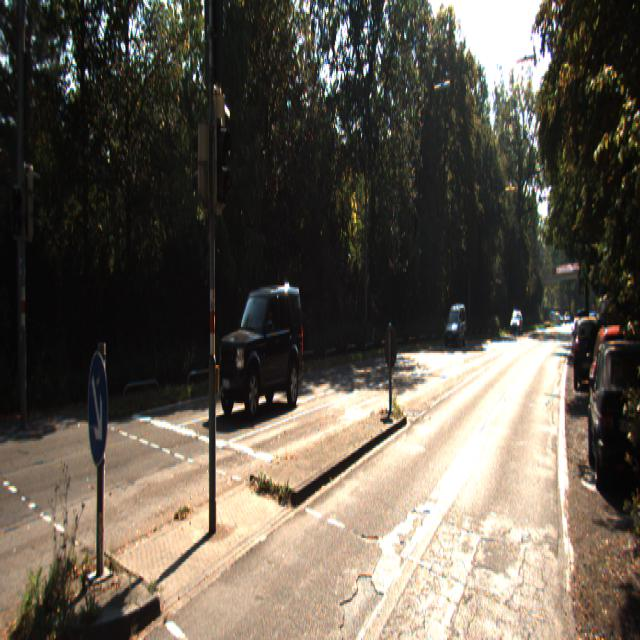Car: (215, 281, 306, 426), (584, 332, 640, 503), (445, 303, 468, 349)
